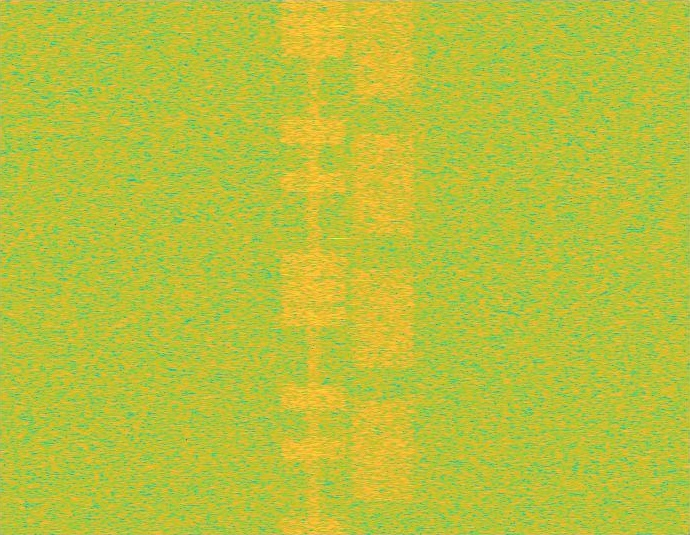5G: (348, 0, 417, 534)
DSSS: (306, 0, 321, 534)
LTE: (279, 0, 348, 534)
Radar: (332, 0, 345, 534)
